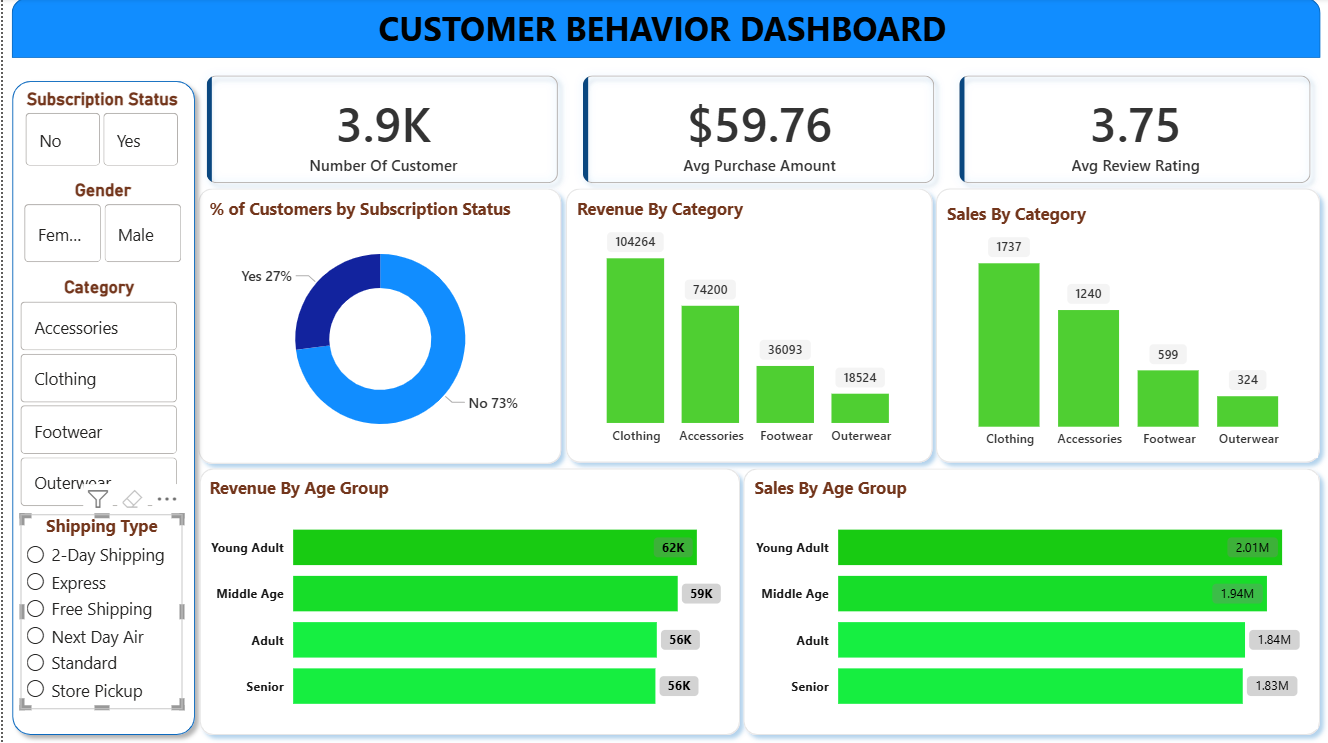

Layout of this report page (visuals, bound fields, positions):
{"tool":"powerbi","page":{"name":"Page 1","canvas":[1280,720],"ordinal":0},"visuals":[{"type":"cardVisual","fields":{"Data":["public customer.Number Of Customer","public customer.Avg Purchase Amount","public customer.Avg Review Rating"]},"box":[179.8,57.9,1100.3,138.7],"z":0},{"type":"shape","box":[8.4,0,1263.1,57.9],"z":1000},{"type":"shape","box":[179.8,174.9,368,283.5],"z":2000},{"type":"donutChart","title":"% of Customers by Subscription Status","fields":{"Y":["CountNonNull(public customer.customer_id)"],"Category":["public customer.subscription_status"]},"box":[194.2,191.8,340.2,253.4],"z":3000},{"type":"shape","box":[534.5,174.9,371.6,282.3],"z":4000},{"type":"shape","box":[891.6,174.9,388.5,282.3],"z":5000},{"type":"clusteredColumnChart","title":"Revenue By Category","fields":{"Y":["Sum(public customer.purchase_amount)"],"Category":["public customer.category"]},"box":[548.9,191.8,342.6,248.5],"z":6000},{"type":"clusteredColumnChart","title":"Sales By Category","fields":{"Category":["public customer.category"],"Y":["CountNonNull(public customer.customer_id)"]},"box":[906,196.6,363.1,247.3],"z":7000},{"type":"shape","box":[0,71.2,194.2,649.1],"z":8000},{"type":"advancedSlicerVisual","title":"Subscription Status","fields":{"Values":["public customer.subscription_status"]},"box":[16.9,86.9,158,80.8],"z":9000},{"type":"advancedSlicerVisual","title":"Gender","fields":{"Values":["public customer.gender"]},"box":[15.7,174.9,161.7,85.7],"z":10000},{"type":"advancedSlicerVisual","title":"Category","fields":{"Values":["public customer.category"]},"box":[12.1,269,161.7,229.2],"z":11000},{"type":"listSlicer","fields":{"Values":["public customer.shipping_type"]},"box":[16.9,498.3,156.8,188.2],"z":12000},{"type":"shape","box":[181,445.2,539.3,275.1],"z":13000},{"type":"clusteredBarChart","title":"Revenue By Age Group","fields":{"Y":["Sum(public customer.purchase_amount)"],"Category":["public customer.age_group"]},"box":[194.2,460.9,511.5,244.9],"z":14000},{"type":"shape","box":[705.8,445.2,574.3,275.1],"z":15000},{"type":"clusteredBarChart","title":"Sales By Age Group","fields":{"Category":["public customer.age_group"],"Y":["Sum(public customer.customer_id)"]},"box":[720.2,460.9,548.9,244.9],"z":16000},{"type":"textbox","box":[19.3,2.4,1234.2,55.5],"z":16001}]}

Visuals, with their boxes in screenshot pixels (x1, y1, x2, y2), scaled from the page's 1280x720 canvas onto the 1328x743 screenshot:
cardVisual - public customer.Number Of Customer x public customer.Avg Purchase Amount: <box>187,60,1327,203</box>
shape: <box>9,0,1319,60</box>
shape: <box>187,180,568,473</box>
"% of Customers by Subscription Status" donutChart: <box>201,198,554,459</box>
shape: <box>555,180,940,472</box>
shape: <box>925,180,1327,472</box>
"Revenue By Category" clusteredColumnChart: <box>569,198,925,454</box>
"Sales By Category" clusteredColumnChart: <box>940,203,1317,458</box>
shape: <box>0,73,201,742</box>
"Subscription Status" advancedSlicerVisual: <box>18,90,181,173</box>
"Gender" advancedSlicerVisual: <box>16,180,184,269</box>
"Category" advancedSlicerVisual: <box>13,278,180,514</box>
listSlicer - public customer.shipping_type: <box>18,514,180,708</box>
shape: <box>188,459,747,742</box>
"Revenue By Age Group" clusteredBarChart: <box>201,476,732,728</box>
shape: <box>732,459,1327,742</box>
"Sales By Age Group" clusteredBarChart: <box>747,476,1317,728</box>
textbox: <box>20,2,1301,60</box>
